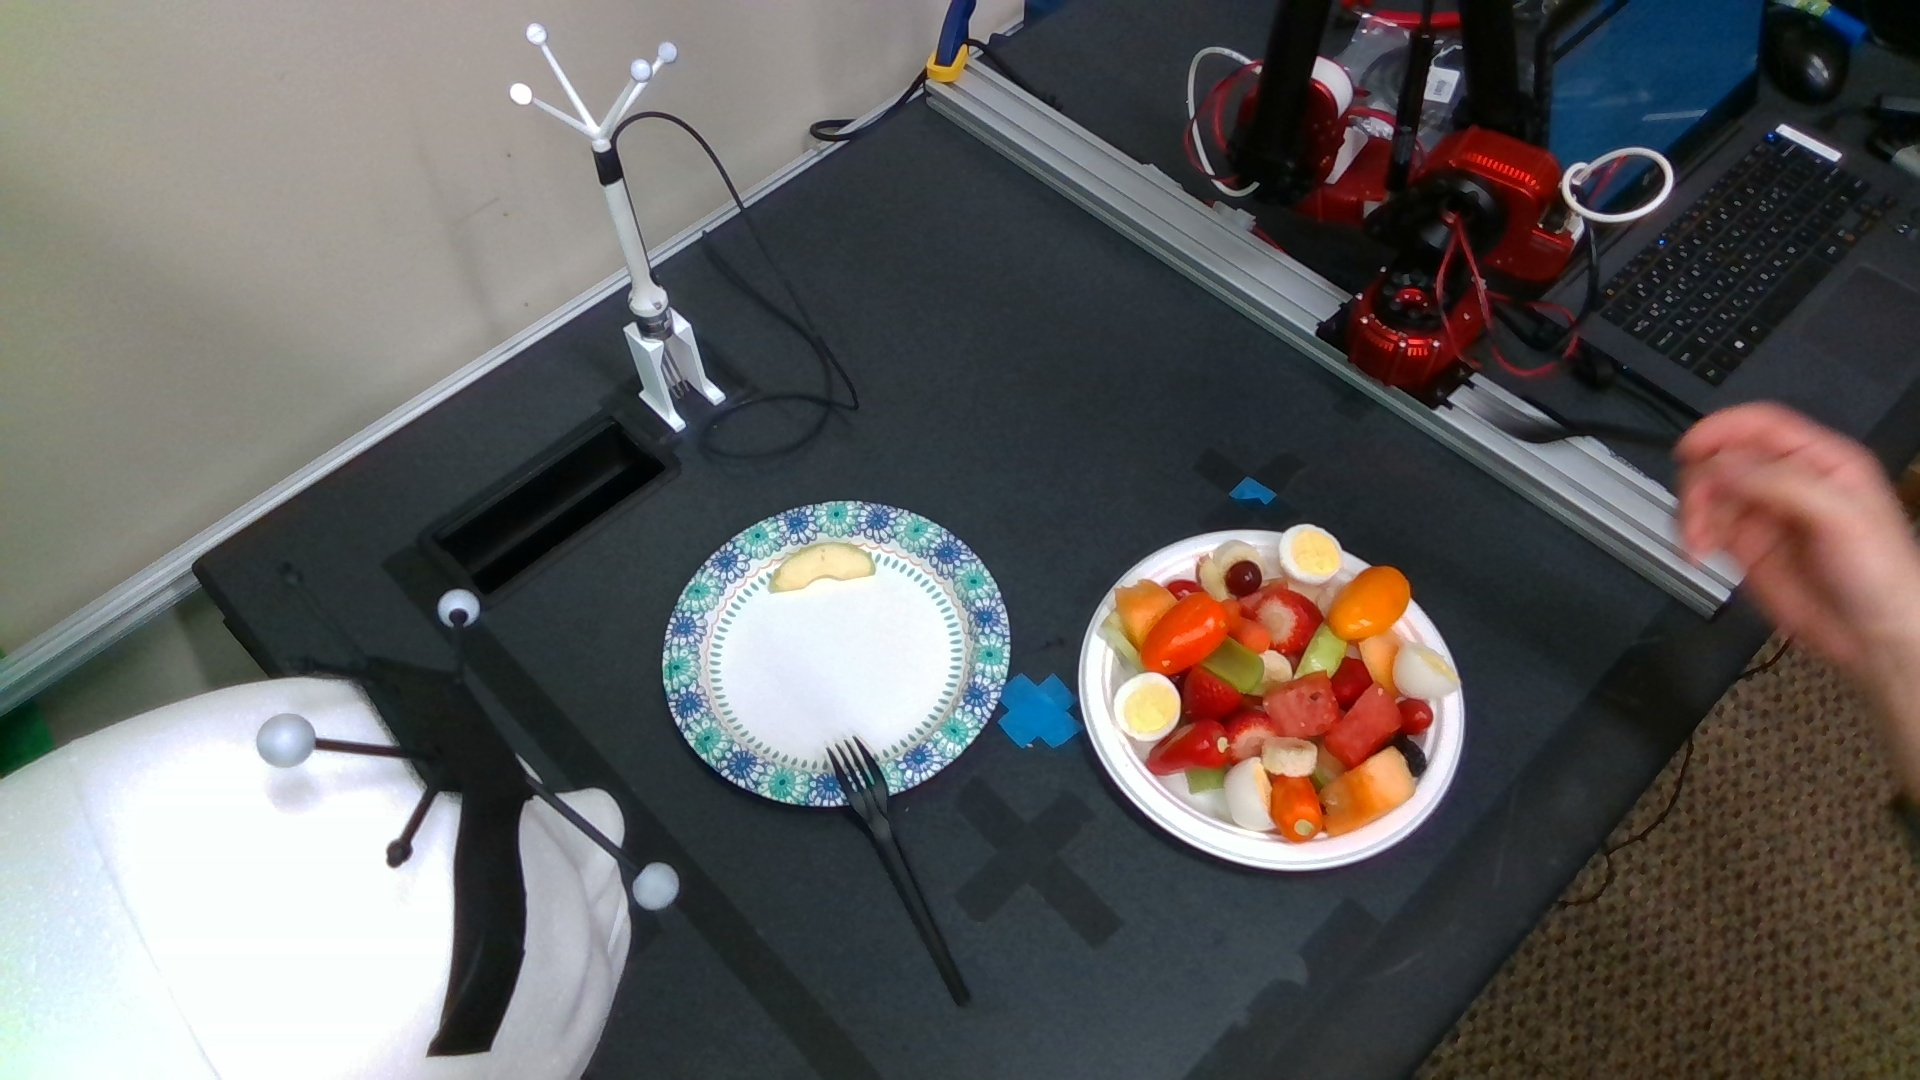apple: (770, 543, 876, 593)
banana: (1262, 738, 1317, 777)
bell_pepper: (1145, 589, 1225, 673), (1329, 566, 1408, 640), (1150, 720, 1226, 774), (1274, 775, 1323, 841)
cantalope: (1327, 749, 1414, 833), (1118, 582, 1172, 647)
celery: (1205, 636, 1265, 694)
cherry_tomato: (1399, 700, 1432, 735)
egg: (1114, 673, 1180, 738), (1280, 524, 1342, 584), (1225, 757, 1276, 829), (1393, 644, 1458, 699)
grape_purple: (1224, 560, 1262, 596)
melon: (1328, 684, 1400, 766), (1265, 673, 1337, 738)
strawberry: (1257, 589, 1320, 651), (1226, 709, 1284, 762), (1183, 669, 1242, 719)
